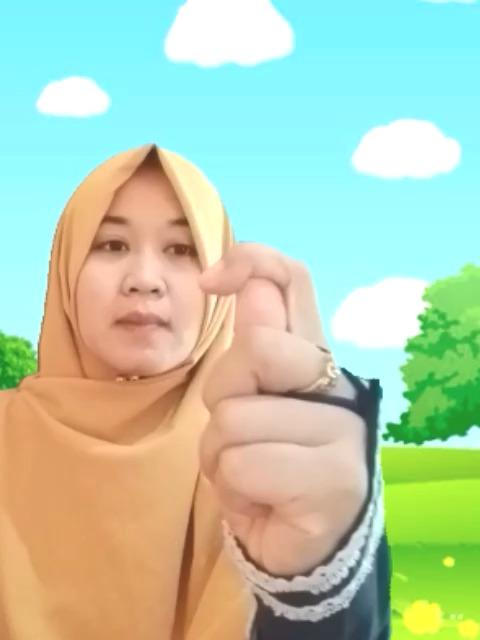T: (190, 238, 384, 578)
